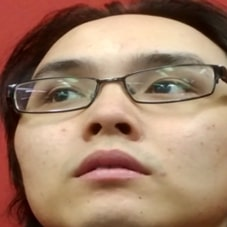awake: (27, 46, 216, 200)
